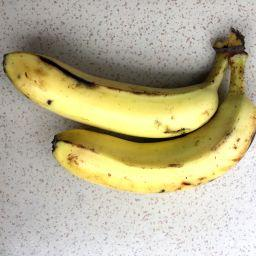banana: (50, 47, 256, 197), (0, 25, 248, 141)
